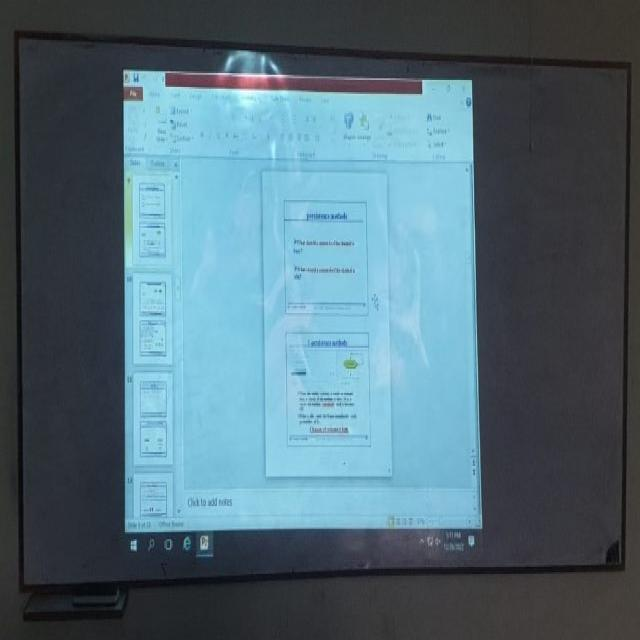Slide: (121, 59, 486, 569)
White-board: (17, 34, 629, 583)
